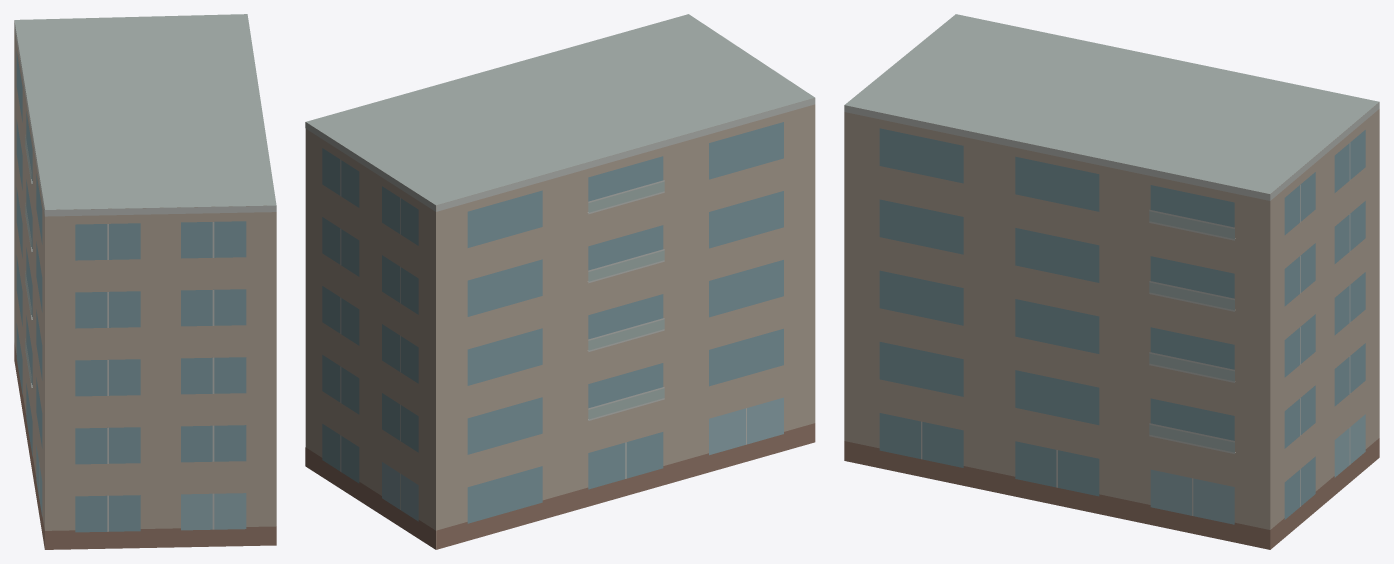
Rendered from survey-upis-32996925.glb.
The picture shows the model from 3 angles, left to right: view 1: azimuth 30°, elevation 25°; view 2: azimuth 150°, elevation 25°; view 3: azimuth 270°, elevation 25°; orthographic projection. The views are drawn at different scales.
Visible parts, largest first — view 1: survey-upis-32996925.tmp; view 2: survey-upis-32996925.tmp; view 3: survey-upis-32996925.tmp.
Part boxes in pixels (x1,y1,x2,y2): survey-upis-32996925.tmp: (14, 14, 276, 549); survey-upis-32996925.tmp: (305, 14, 815, 549); survey-upis-32996925.tmp: (844, 14, 1379, 549).
Size of the model in its own units: 13.8 by 12.7 by 17.33.
